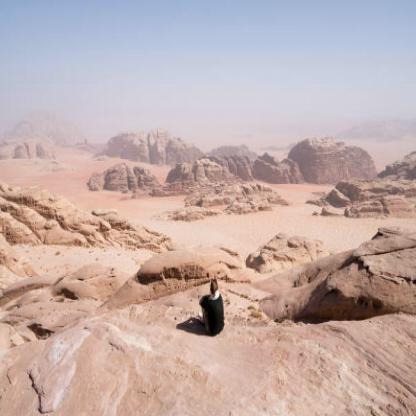Sedimentary_Sandstone: (308, 221, 415, 317)
